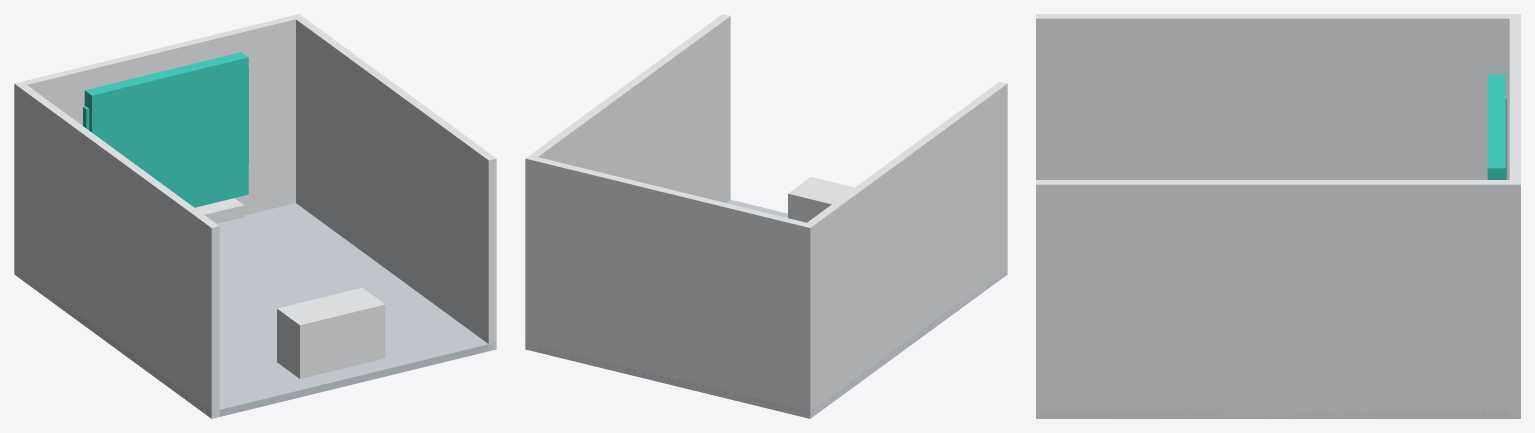
The picture shows the model from 3 angles, left to right: view 1: azimuth 30°, elevation 25°; view 2: azimuth 150°, elevation 25°; view 3: azimuth 270°, elevation 25°; orthographic projection. The views are drawn at different scales.
Visible parts, largest first — view 1: Exhibition Booth Concept; view 2: Exhibition Booth Concept; view 3: Exhibition Booth Concept.
Part boxes in pixels (left/top/right/bottom): Exhibition Booth Concept: left=14, top=14, right=496, bottom=418; Exhibition Booth Concept: left=525, top=14, right=1007, bottom=418; Exhibition Booth Concept: left=1036, top=14, right=1520, bottom=418.
Bounding box in the file's own units: 5 × 3.2 × 6.
